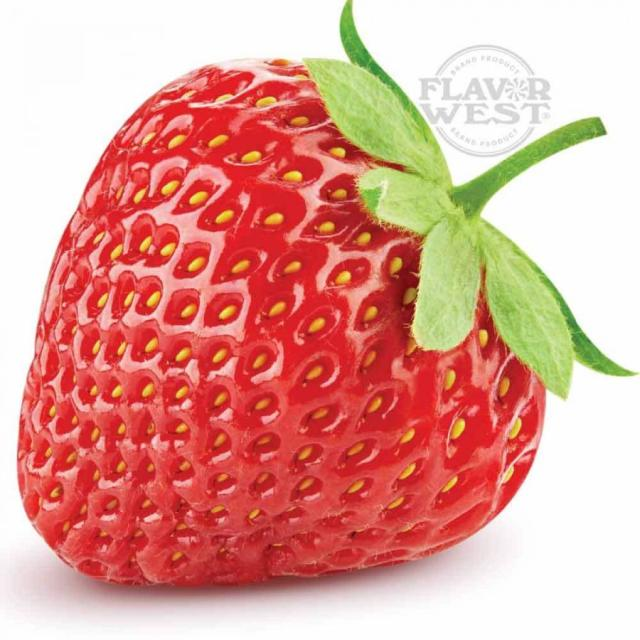strawberry: (0, 9, 616, 594)
